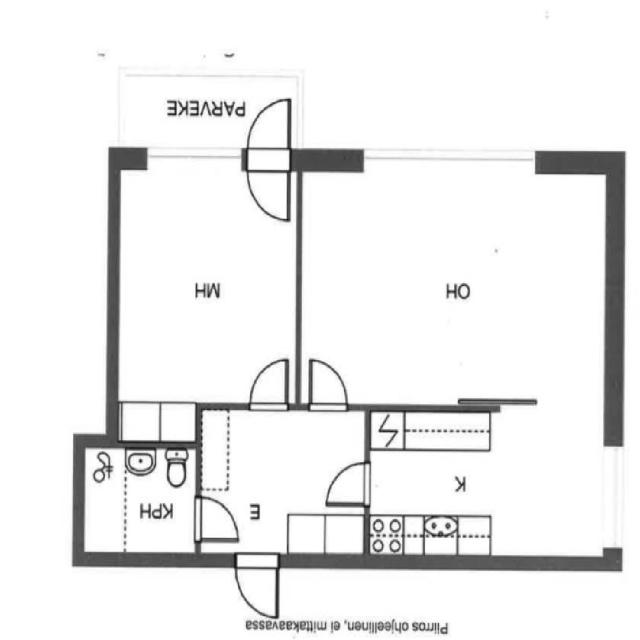door: (243, 96, 294, 189), (243, 139, 293, 229), (231, 550, 283, 625), (186, 486, 244, 550), (240, 350, 294, 415), (301, 352, 355, 415), (322, 454, 378, 510)
window: (74, 440, 201, 562), (352, 138, 551, 176), (595, 437, 631, 560), (143, 142, 245, 169)
zone: (296, 156, 584, 398), (113, 146, 302, 422), (364, 408, 599, 563), (202, 406, 372, 560), (75, 439, 201, 562)
